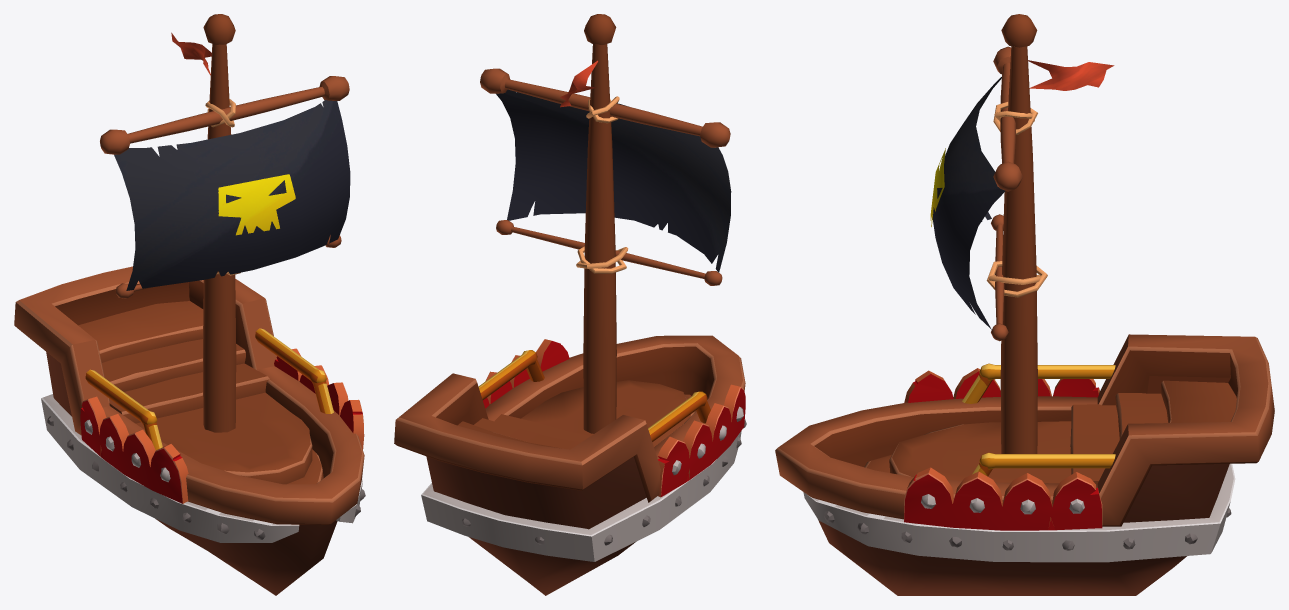
Rendered from ShipA.fbx.
3 views of the same model, side by side, from view 1: azimuth 30°, elevation 25°; view 2: azimuth 150°, elevation 25°; view 3: azimuth 270°, elevation 25° (orthographic). The views are drawn at different scales.
Visible parts, largest first — view 1: Color_01, Color_Cloth_01, Armor_Color_04, Armor_Color_01, Armor_Color_02, Armor_Color_03; view 2: Color_01, Color_Cloth_01, Armor_Color_04, Armor_Color_01, Armor_Color_02, Armor_Color_03; view 3: Color_01, Armor_Color_04, Armor_Color_02, Color_Cloth_01, Armor_Color_01, Armor_Color_03.
Boxes of the visible parts, left/top/right/bottom form: Color_01: left=14, top=14, right=364, bottom=595; Color_Cloth_01: left=114, top=32, right=350, bottom=290; Armor_Color_04: left=41, top=394, right=362, bottom=542; Armor_Color_01: left=80, top=396, right=188, bottom=503; Armor_Color_02: left=274, top=348, right=364, bottom=449; Armor_Color_03: left=47, top=416, right=365, bottom=539; Color_01: left=394, top=14, right=745, bottom=595; Color_Cloth_01: left=496, top=60, right=731, bottom=272; Armor_Color_04: left=421, top=431, right=741, bottom=561; Armor_Color_01: left=657, top=384, right=745, bottom=497; Armor_Color_02: left=483, top=339, right=569, bottom=408; Armor_Color_03: left=462, top=419, right=746, bottom=545; Color_01: left=775, top=14, right=1274, bottom=595; Armor_Color_04: left=803, top=463, right=1235, bottom=562; Armor_Color_02: left=904, top=467, right=1102, bottom=530; Color_Cloth_01: left=930, top=60, right=1114, bottom=329; Armor_Color_01: left=904, top=368, right=1099, bottom=402; Armor_Color_03: left=824, top=508, right=1231, bottom=550.
Bounding box in the file's own units: 16.33 × 33.95 × 26.43.
